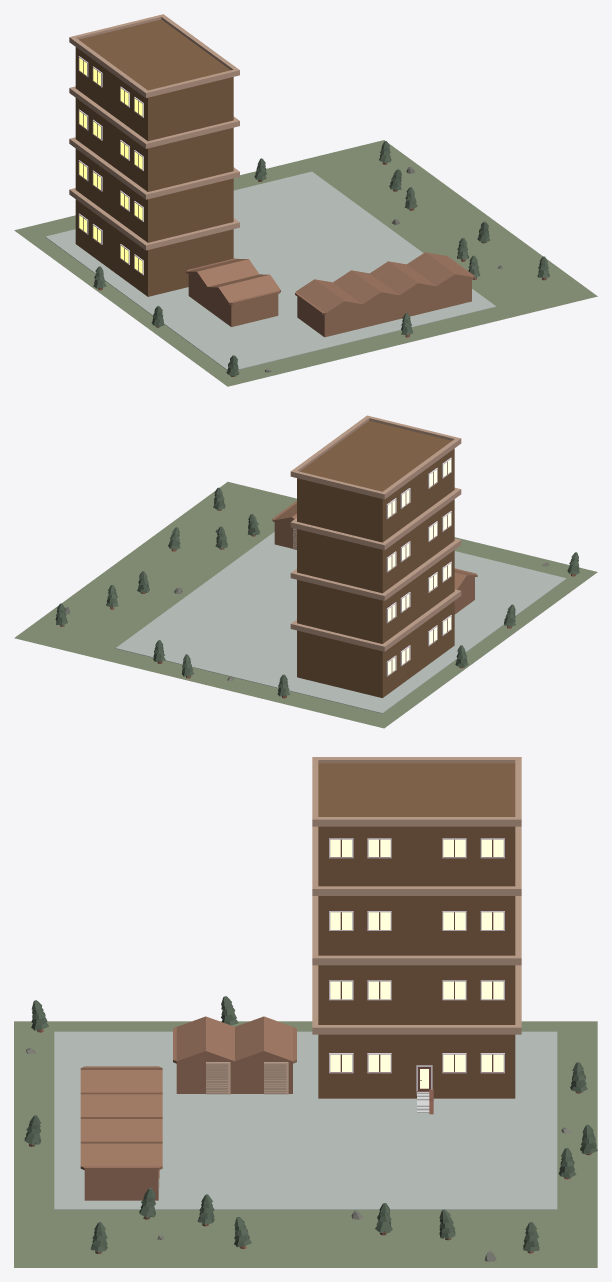
Rendered from building_placeholder.glb.
3 views of the same model, one above another, from view 1: azimuth 30°, elevation 25°; view 2: azimuth 150°, elevation 25°; view 3: azimuth 270°, elevation 25° (orthographic). The views are drawn at different scales.
Visible parts, largest first — view 1: Building, Plane, Plane.001, GaragesQuad, GaragesDouble, window2.002, window2.004, window2.001, window2.003; view 2: Building, Plane, Plane.001, GaragesQuad, GaragesDouble, window2.004, window2.001, window2.002, window2.003; view 3: Building, Plane.001, Plane, GaragesQuad, GaragesDouble, window2.001, window2.003, window2.004, window2.002, GDOOR5, GDOOR6.
Part boxes in pixels (x1,y1,x2,y2): Building: (69,14,239,296); Plane: (14,140,597,386); Plane.001: (45,171,496,369); GaragesQuad: (295,252,474,337); GaragesDouble: (186,258,280,326); window2.002: (78,109,143,170); window2.004: (78,56,143,117); window2.001: (78,160,143,221); window2.003: (78,213,143,275); Building: (290,415,461,697); Plane: (14,482,597,728); Plane.001: (115,532,566,713); GaragesQuad: (272,501,296,548); GaragesDouble: (454,568,477,614); window2.004: (386,457,451,519); window2.001: (386,561,451,623); window2.002: (386,511,451,572); window2.003: (386,615,451,676); Building: (312,757,521,1098); Plane.001: (54,1031,557,1209); Plane: (14,1021,597,1267); GaragesQuad: (80,1066,162,1200); GaragesDouble: (173,1016,296,1093); window2.001: (329,980,504,1000); window2.003: (329,1053,504,1073); window2.004: (329,838,504,858); window2.002: (329,911,504,930); GDOOR5: (206,1062,230,1094); GDOOR6: (264,1062,288,1094).
Size of the model in its own units: 153 by 83.11 by 153.
